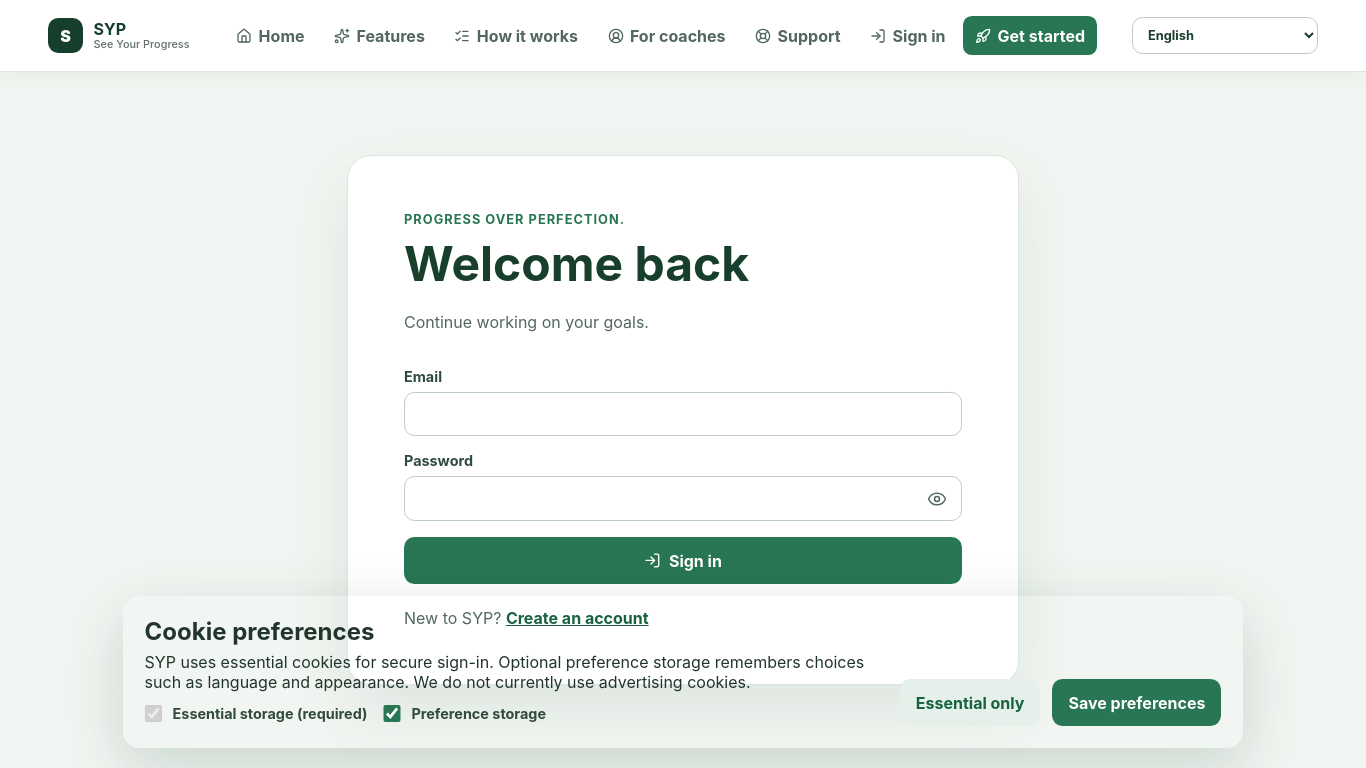
Test: logs in and displays the protected dashboard
expect the button "Sign in" is enabled: met, box x1=404 y1=537 x2=962 y2=584
In the field labelled "Email": (683, 414) x1=404 y1=392 x2=962 y2=436, type "learner@example.com"
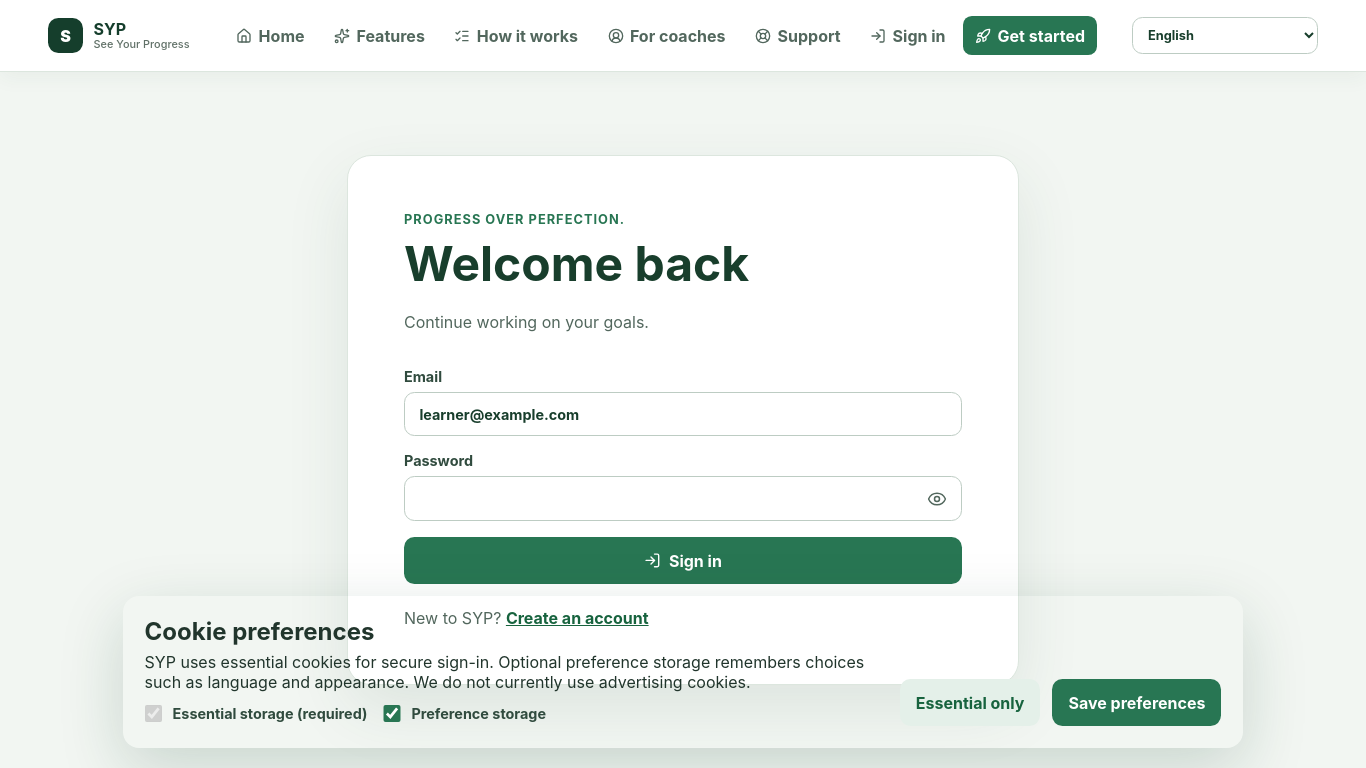
In the password field labelled "Password": (683, 499) x1=404 y1=476 x2=962 y2=521, type "correct-horse-battery-staple"
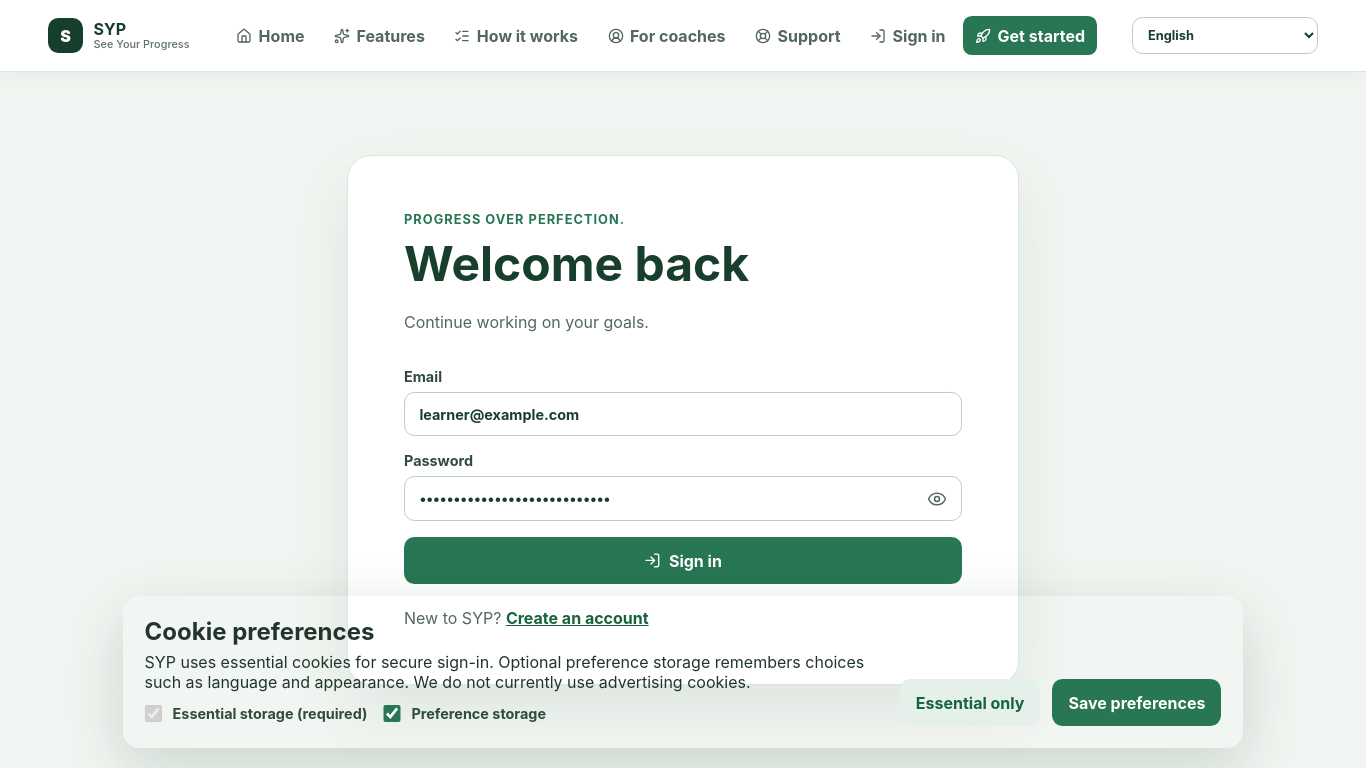
Submit the form "Sign in", box x1=404 y1=368 x2=962 y2=584
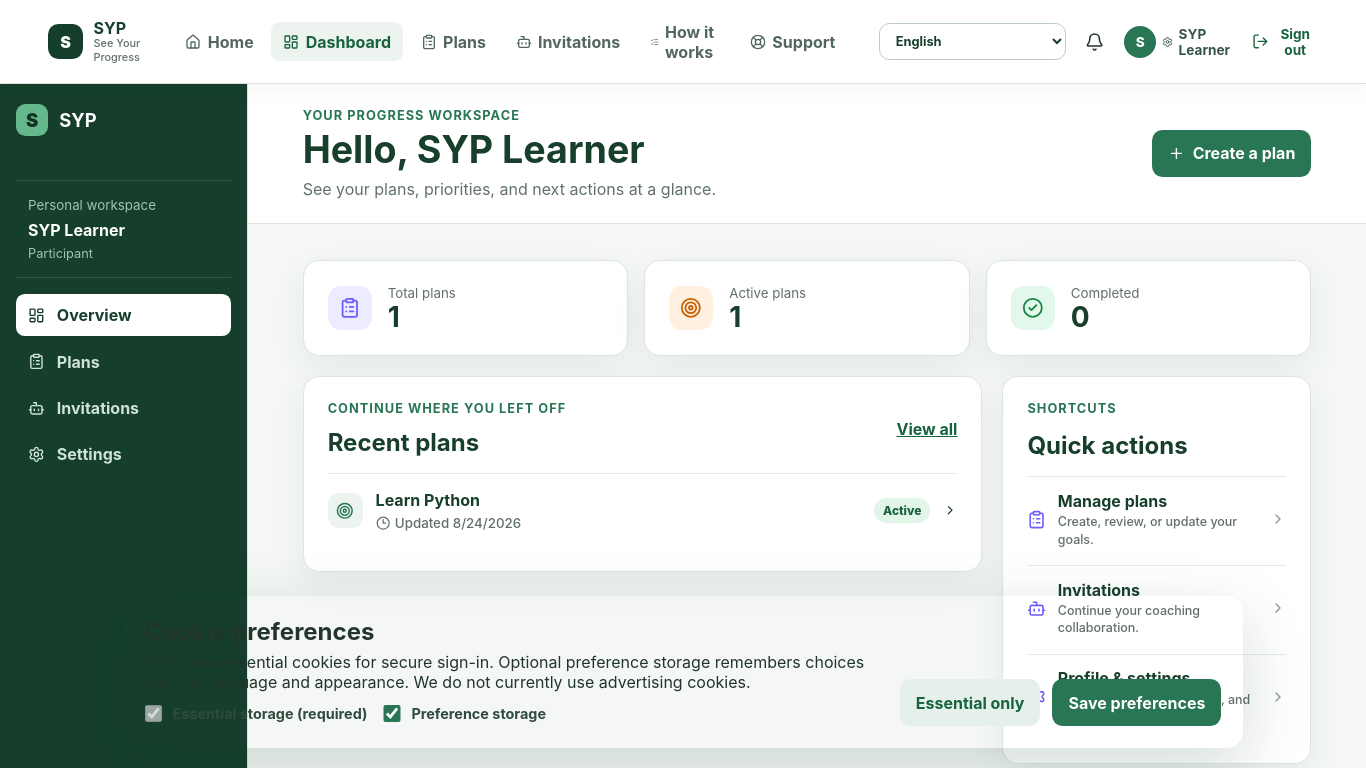
expect the heading "Hello, SYP Learner" is shown: met, box x1=303 y1=127 x2=645 y2=172
expect the text "Learn Python" is shown: met, box x1=376 y1=490 x2=480 y2=510
Click the link "Home": (220, 42) x1=185 y1=32 x2=254 y2=52
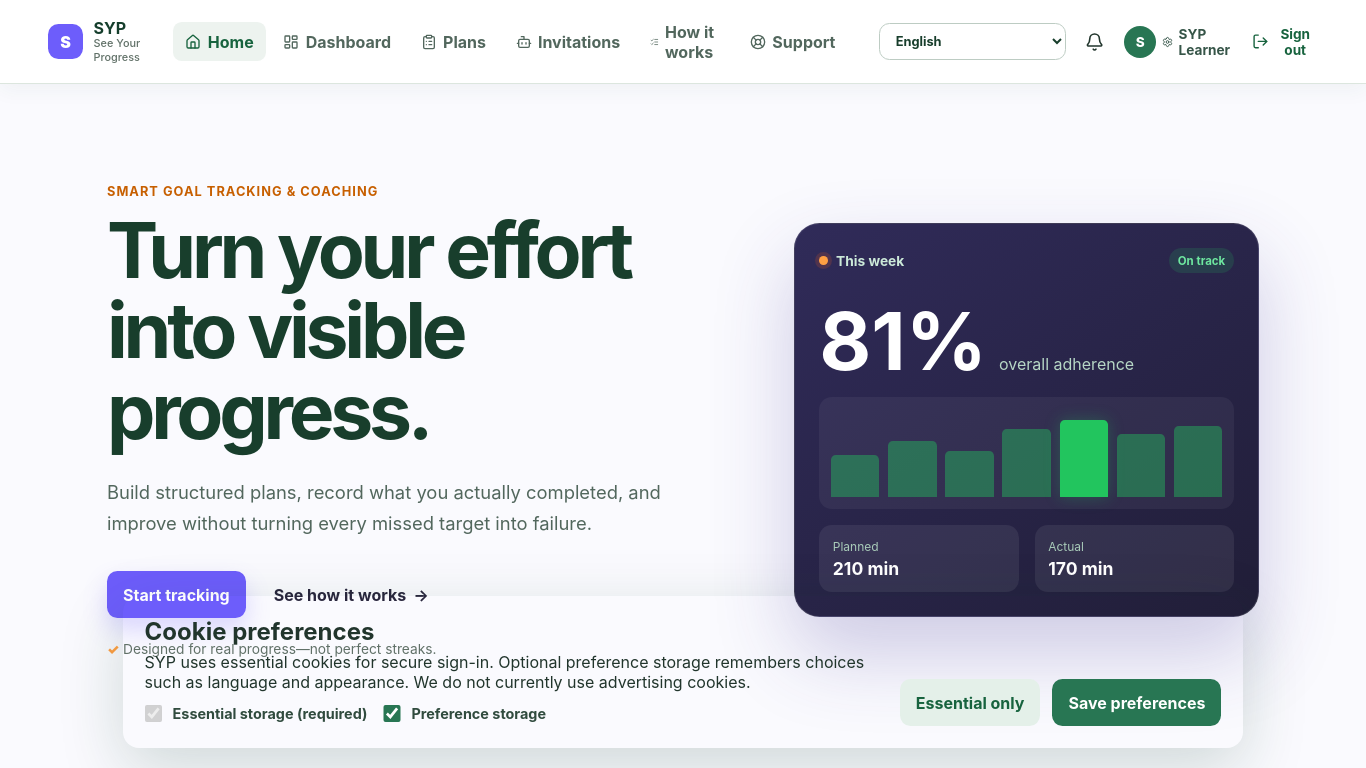
expect the link "Sign in" is not shown: met
expect the button "Sign out" is shown: met, box x1=1248 y1=22 x2=1318 y2=62
expect the heading "Turn your effort into visible progress." is shown: met, box x1=107 y1=211 x2=699 y2=453
Click the link "Dashboard": (337, 42) x1=283 y1=32 x2=391 y2=52
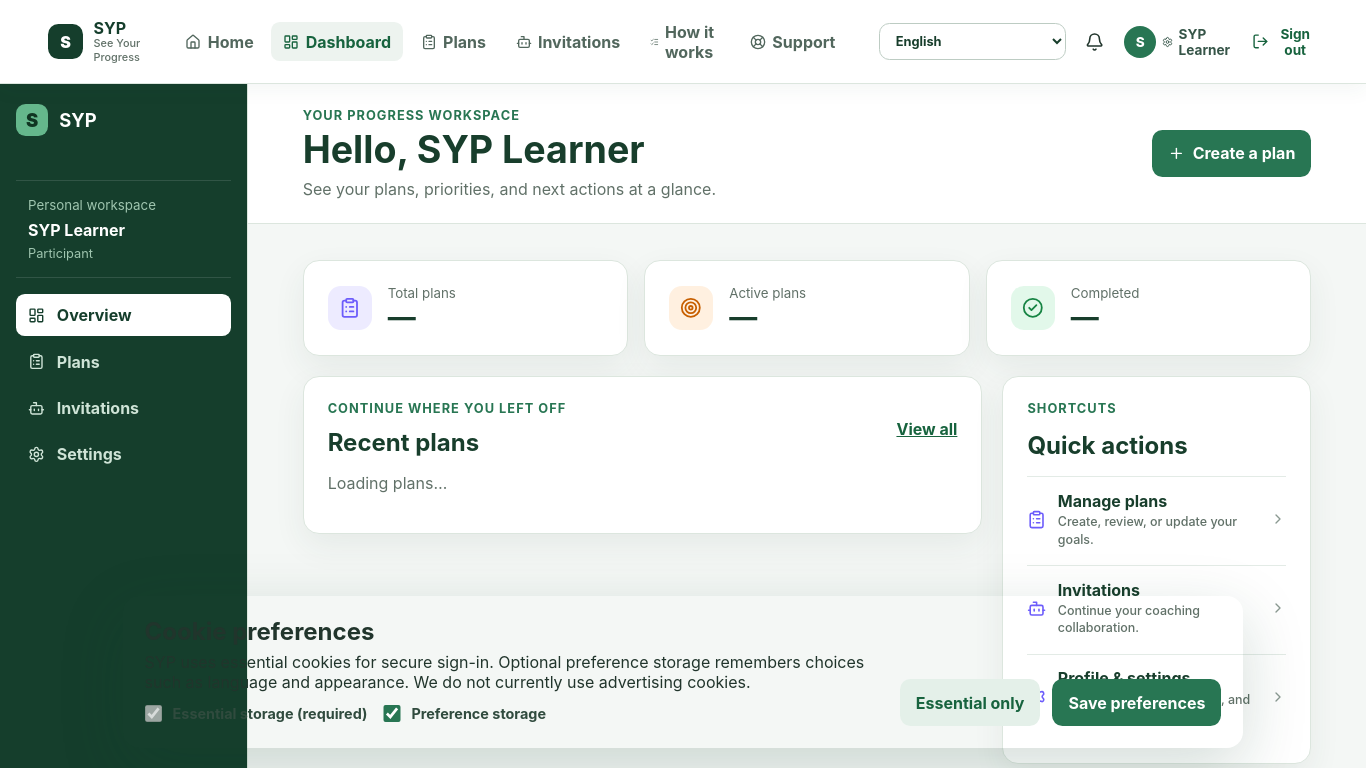
expect the heading "Hello, SYP Learner" is shown: met, box x1=303 y1=127 x2=645 y2=172
Select "Persian" in the dropdown named "Language": (973, 42) x1=880 y1=23 x2=1066 y2=60
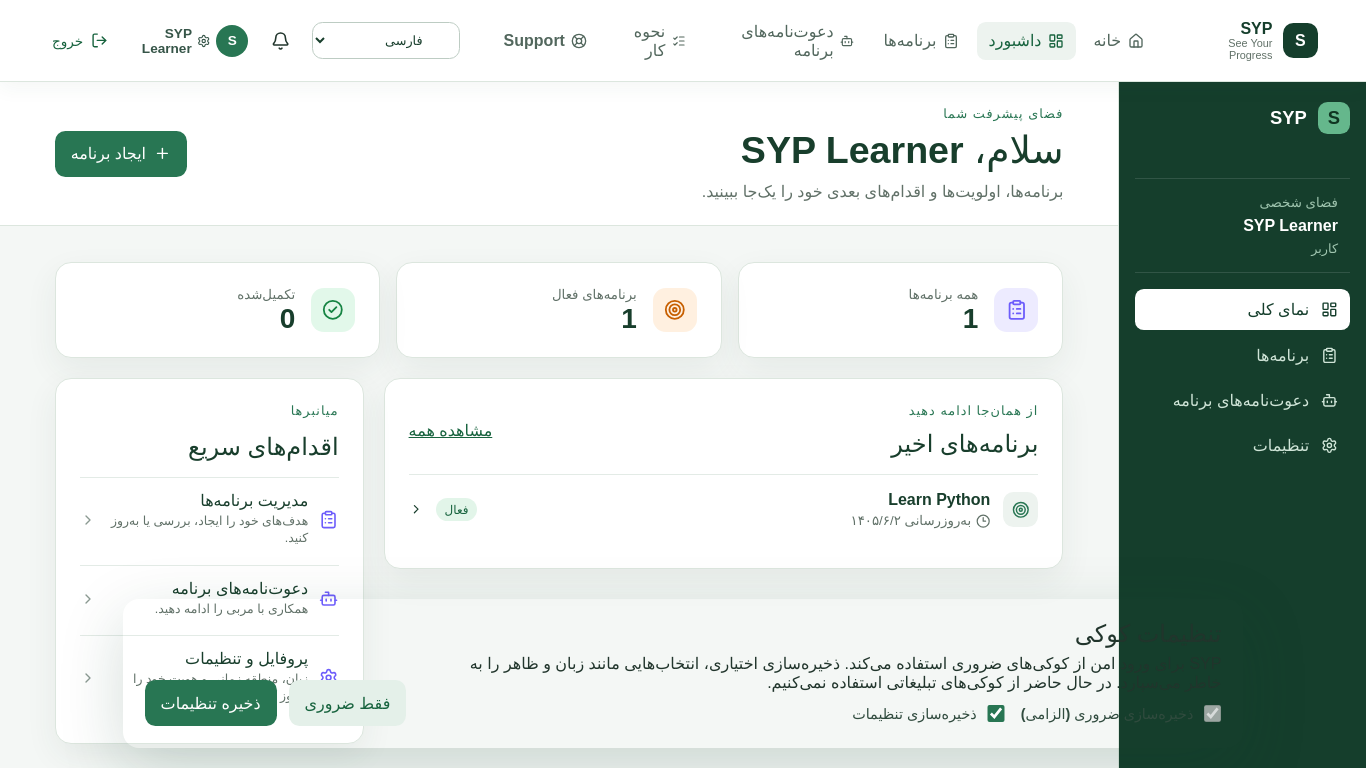
expect the heading "سلام، SYP Learner" is shown: met, box x1=702 y1=128 x2=1063 y2=174
expect the heading "برنامه‌های اخیر" is shown: met, box x1=891 y1=430 x2=1038 y2=458
